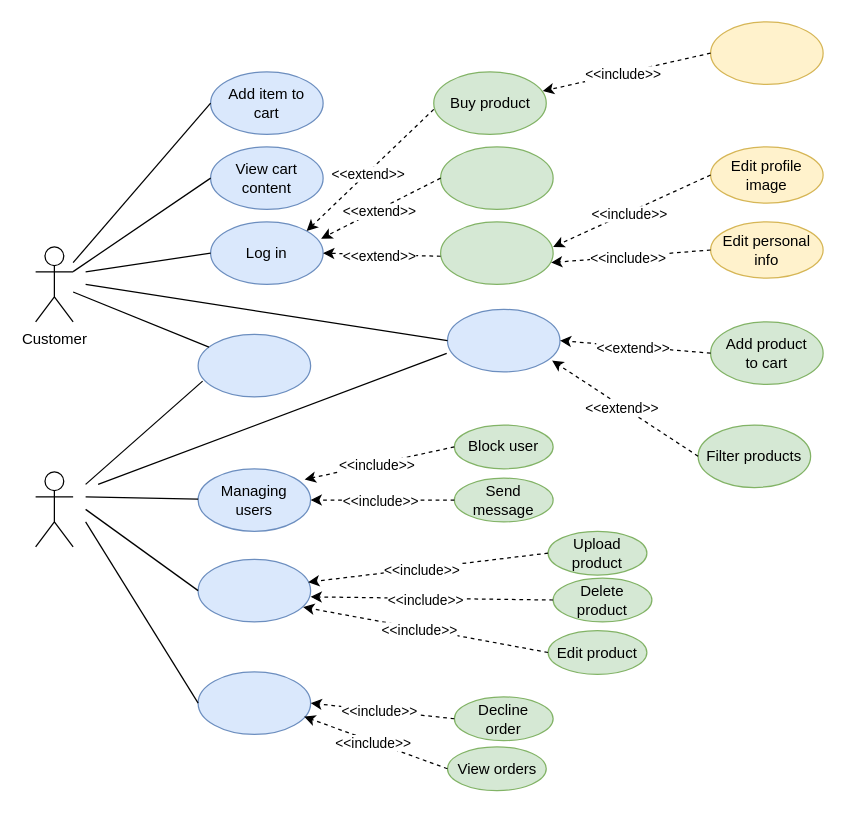
This 845x813 diagram has some shape labels left out. The shapes that lost their labels are listed below. From the top down, each one's centre as x and y in pixels, then its label:
At point 766,52: "Pay".
At point 496,177: "Write product review".
At point 496,252: "Manage account".
At point 503,340: "View products".
At point 254,365: "Browsing on forum".
At point 53,509: "Admin".
At point 254,590: "Managing stocks".
At point 254,702: "Magaging Orders".
